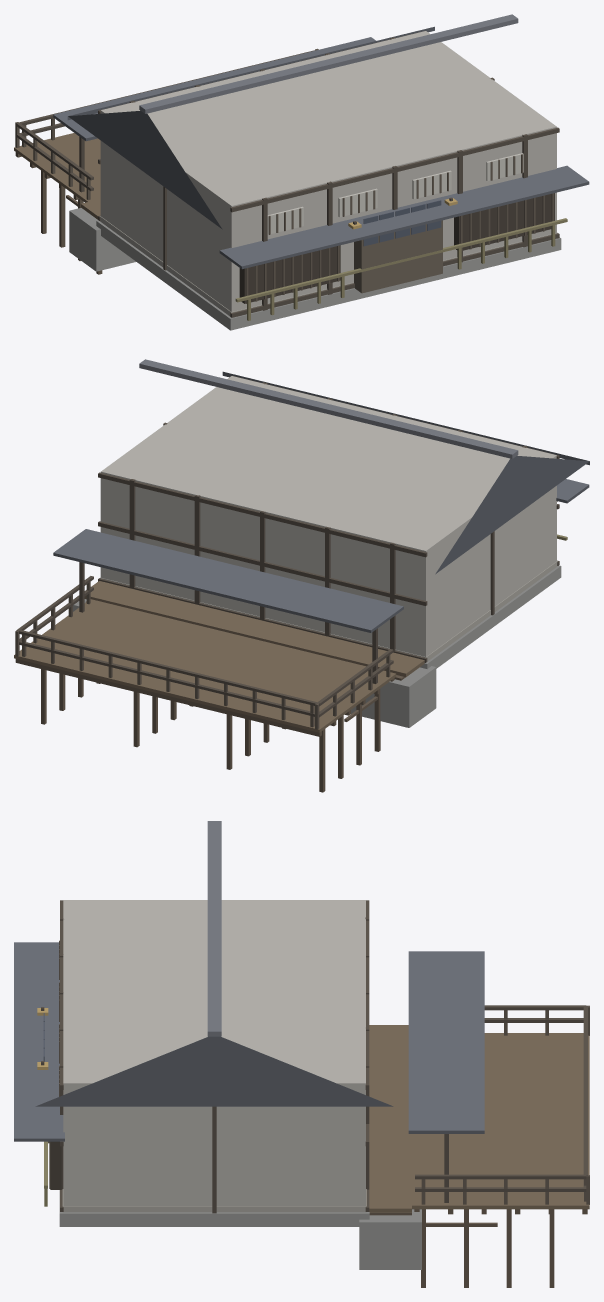
The model's file is unomitei.glb.
The picture shows the model from 3 angles, top to bottom: view 1: azimuth 30°, elevation 25°; view 2: azimuth 150°, elevation 25°; view 3: azimuth 270°, elevation 25°; orthographic projection. The views are drawn at different scales.
Parts seen in each view (by area): view 1: unomitei; view 2: unomitei; view 3: unomitei.
Boxes of the visible parts, left/top/right/bottom form: unomitei: left=14, top=14, right=589, bottom=330; unomitei: left=14, top=359, right=589, bottom=792; unomitei: left=14, top=821, right=589, bottom=1287.
Bounding box in the file's own units: 15.14 × 9.45 × 17.5.
